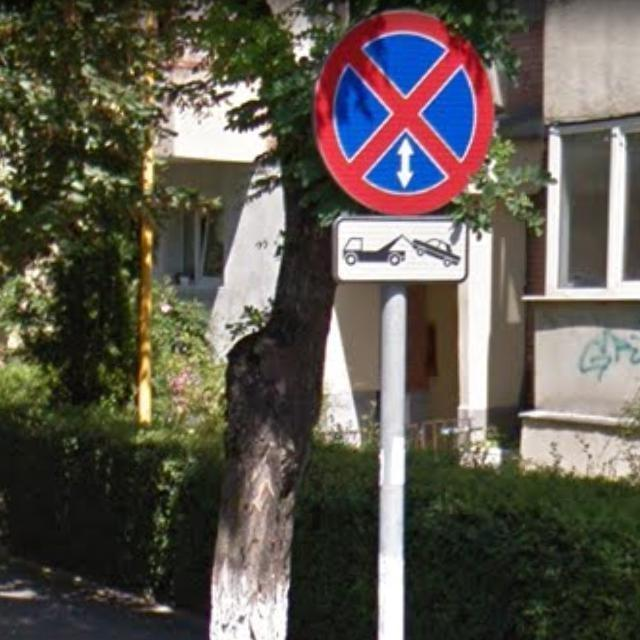forb_waiting: (308, 9, 493, 216)
